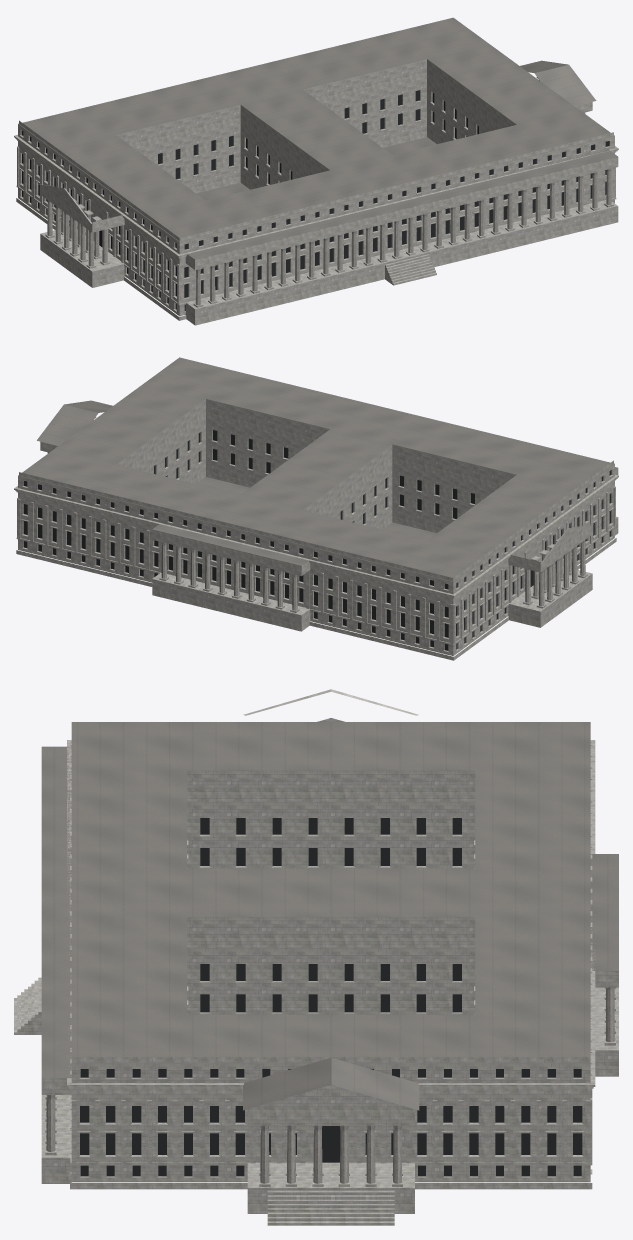
File: treasury_building.glb
3 renders of one model, top to bottom at view 1: azimuth 30°, elevation 25°; view 2: azimuth 150°, elevation 25°; view 3: azimuth 270°, elevation 25°, orthographic. The views are drawn at different scales.
Visible parts, largest first — view 1: treasury_building; view 2: treasury_building; view 3: treasury_building.
Boxes of the visible parts, x1,y1,x2,y2 form: treasury_building: (14,17,618,325); treasury_building: (14,357,618,660); treasury_building: (14,689,618,1225).
Size of the model in its own units: 166 by 25.11 by 105.
Materials: 4 (4 with a texture image).
